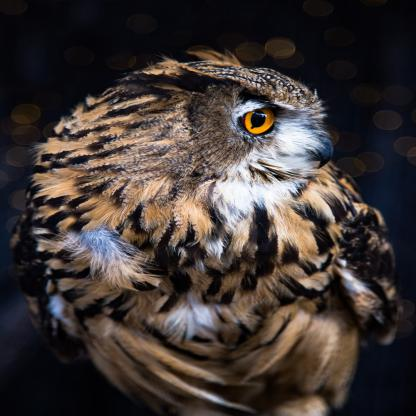owl: (21, 16, 415, 415)
